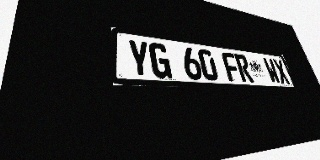0: (197, 49, 219, 81)
6: (181, 46, 204, 80)
F: (221, 52, 242, 82)
G: (148, 42, 172, 79)
R: (234, 54, 254, 82)
W: (262, 58, 281, 84)
X: (272, 59, 291, 84)
Y: (127, 39, 152, 78)
